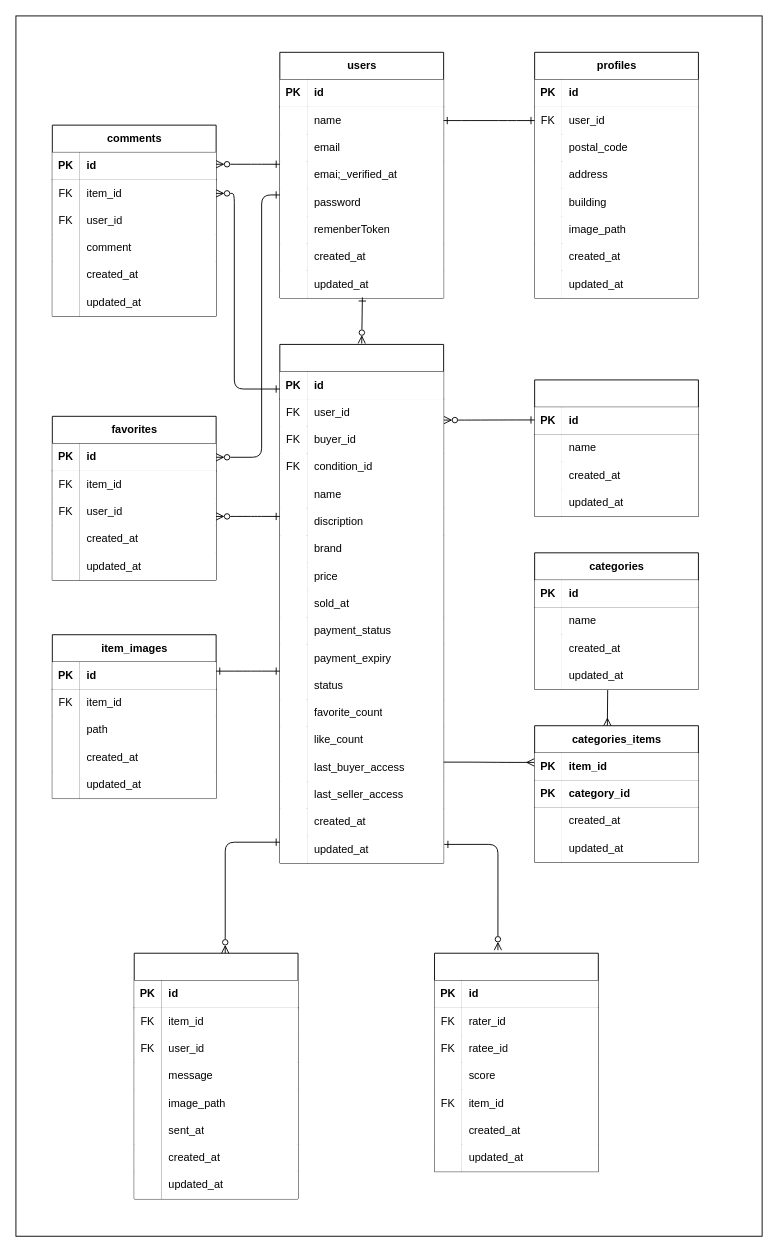
Image size: 778x1252. Some labels were removed from this diagram. The shapes that lost their labels are listed below. From the top down, each one's box as (x1, y1, x2, y2) in pixels, then its label:
(534, 379, 698, 516): conditions
(279, 344, 444, 863): items
(133, 952, 298, 1199): TransactionMessages
(434, 952, 598, 1172): Ratings
